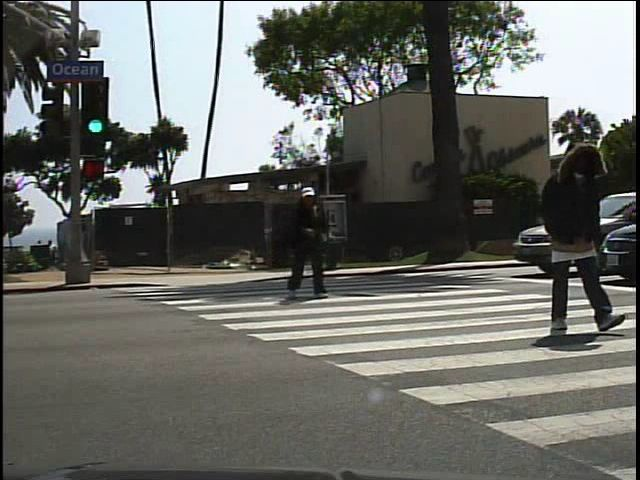person: (533, 136, 623, 347), (281, 180, 337, 305)
